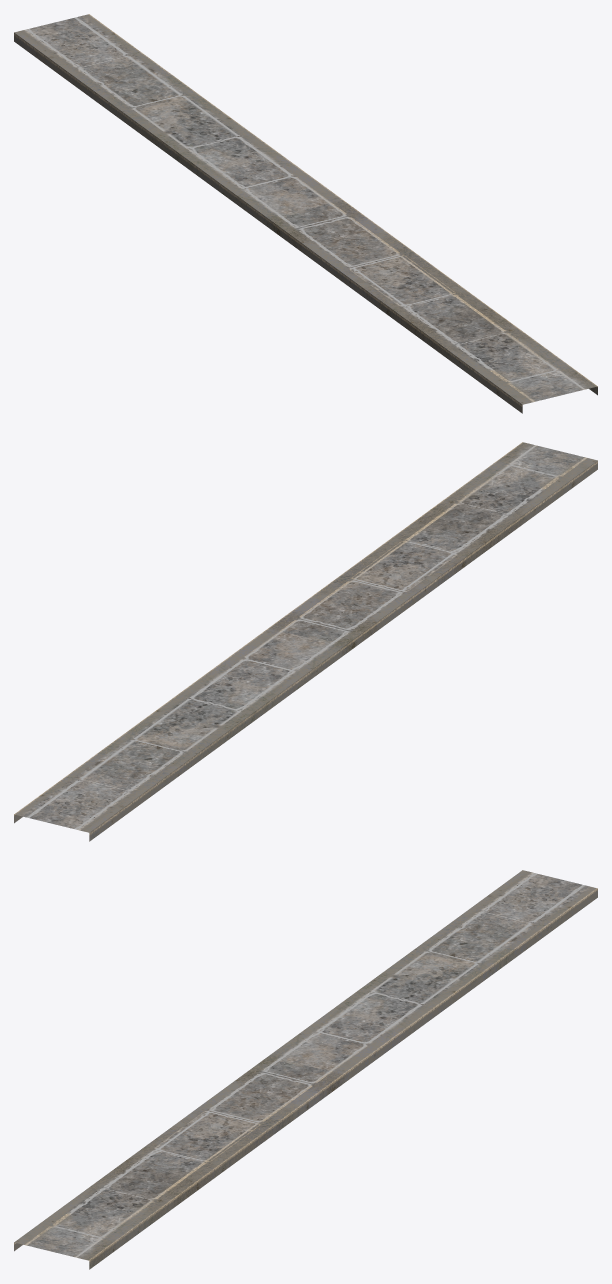
File: SM_roadtile.fbx
3 views of the same model, one above another, from view 1: azimuth 30°, elevation 25°; view 2: azimuth 150°, elevation 25°; view 3: azimuth 330°, elevation 25° (orthographic).
Visible parts, largest first — view 1: SM_loadtile; view 2: SM_loadtile; view 3: SM_loadtile.
Boxes of the visible parts, bbox=[...] form: SM_loadtile: bbox=[14, 14, 597, 413]; SM_loadtile: bbox=[14, 442, 597, 841]; SM_loadtile: bbox=[14, 870, 597, 1269].
Size of the model in its own units: 63.97 by 7.37 by 749.
